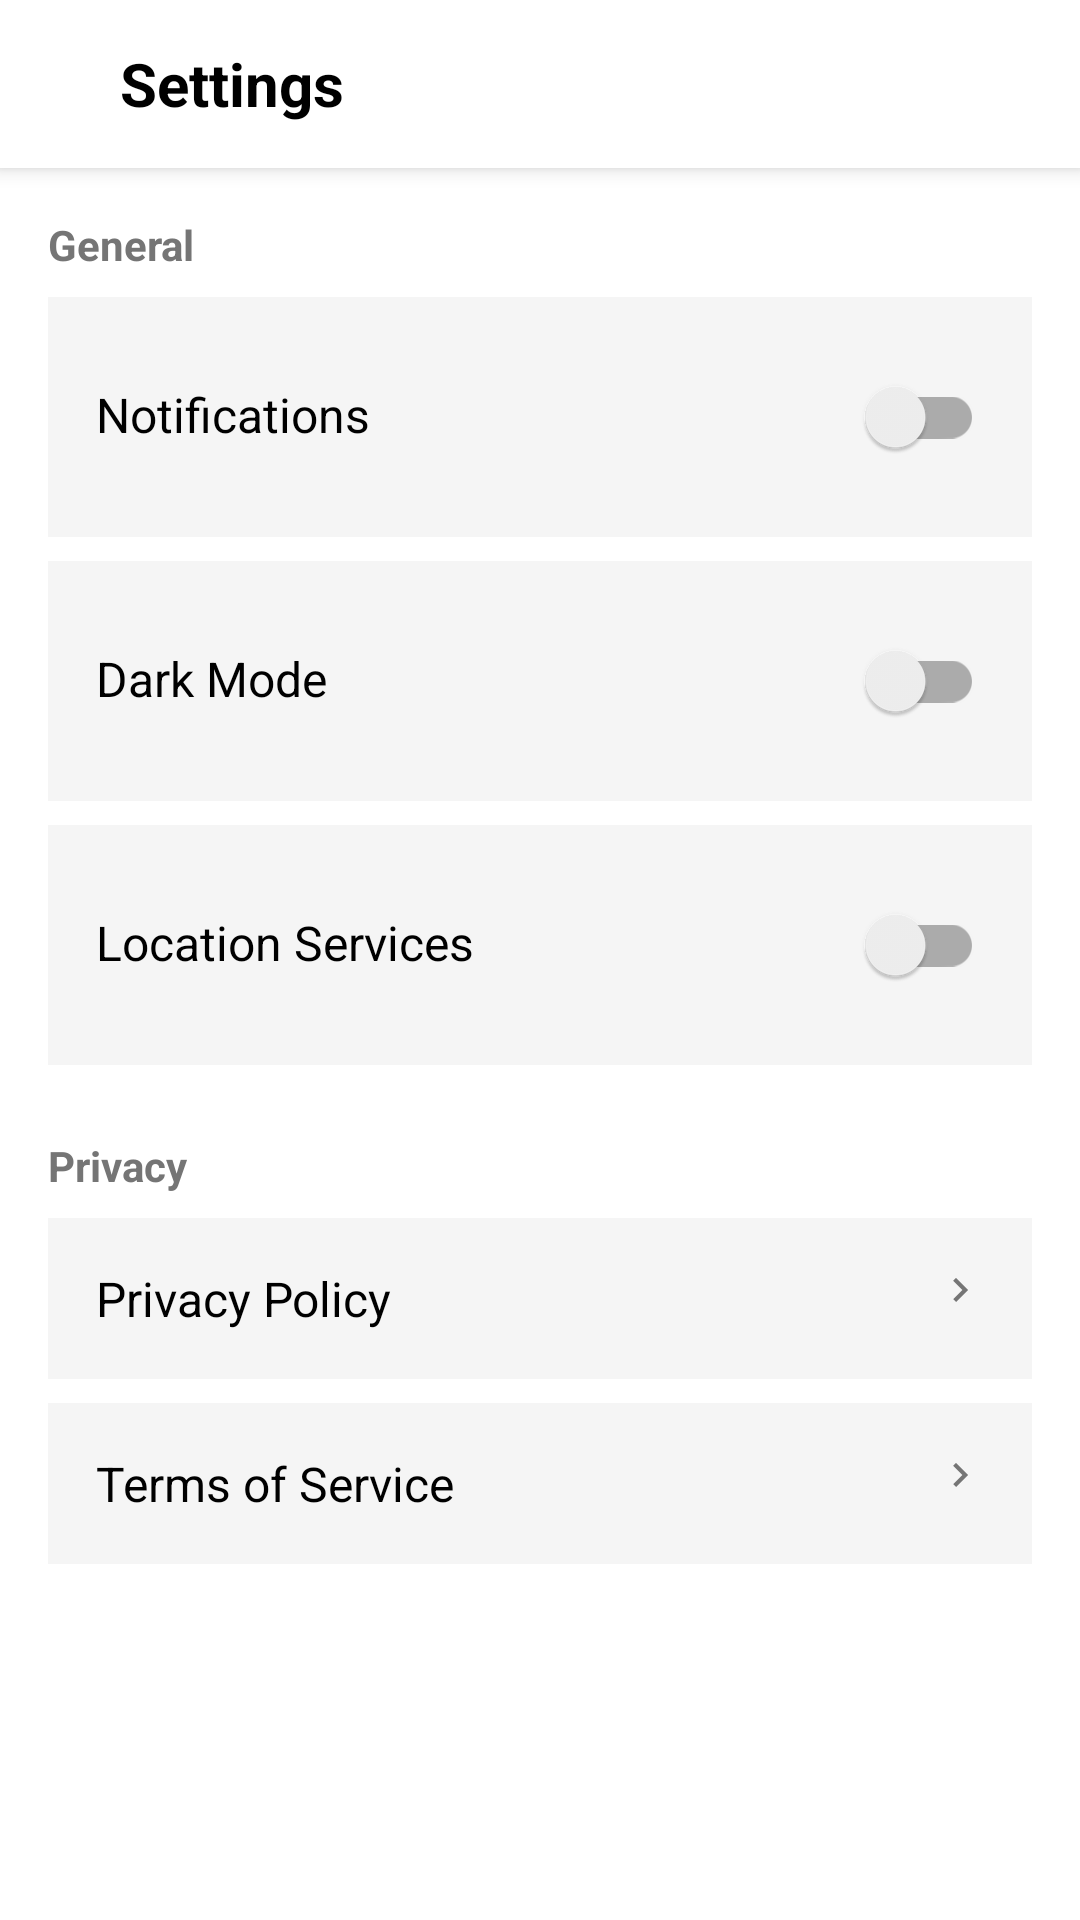

Where icons sit on this 1080 x 1920 app screen, as detection(x1, y1, x2, y2):
Navigate: detection(953, 1278, 968, 1302), detection(953, 1463, 968, 1487)
